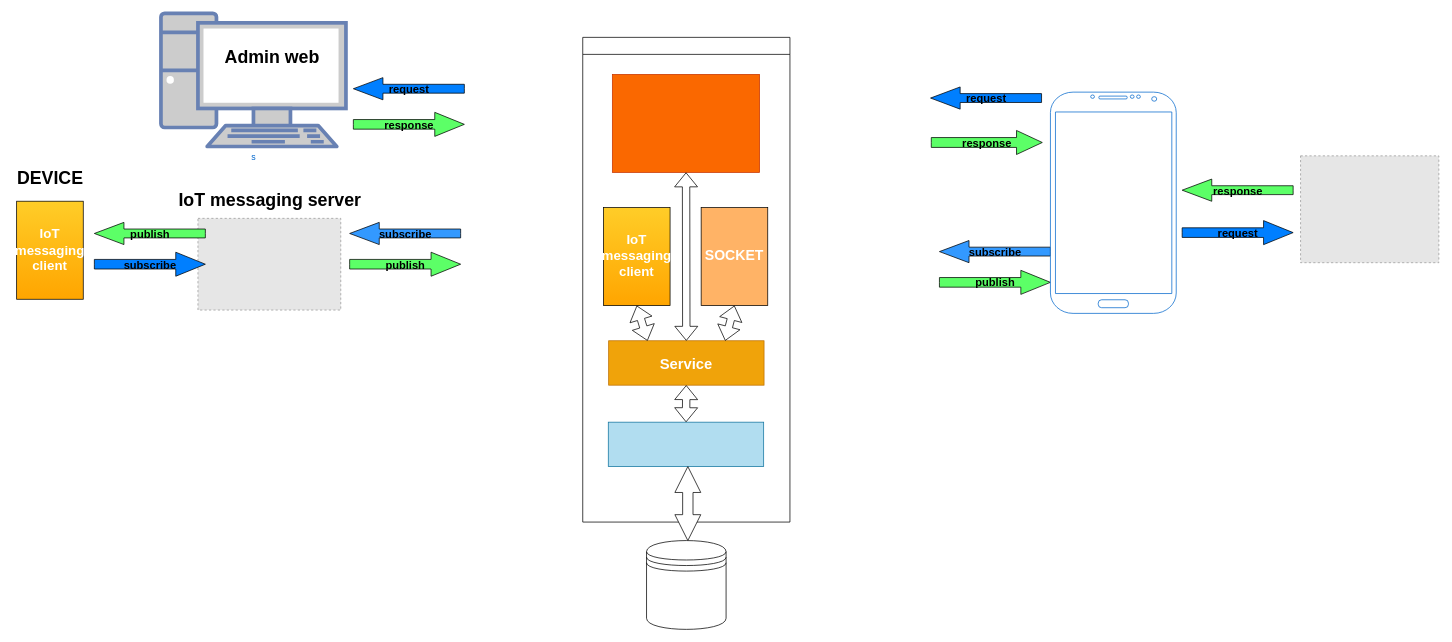
Image size: 1452x642. Some labels were removed from this diagram. Grey dashed boxes stand in for pictures. The box of each missing label's shape, as (x1, y1, x2, y2) in pixels:
BackEnd: (582, 37, 790, 522)
Database: (646, 540, 726, 629)
Repository: (608, 421, 764, 467)
REST API: (612, 74, 760, 172)
User app: (1050, 91, 1176, 313)
